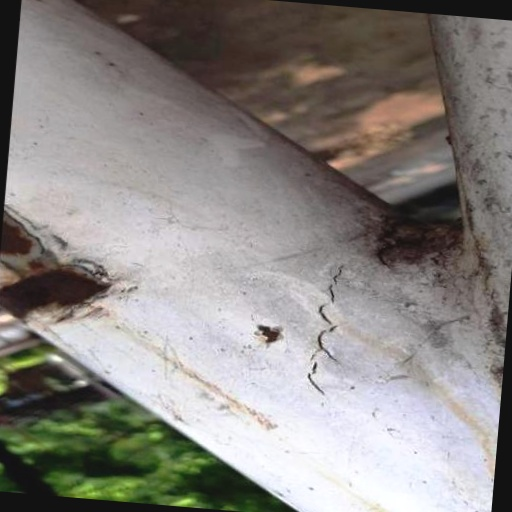crack: (302, 254, 356, 406)
